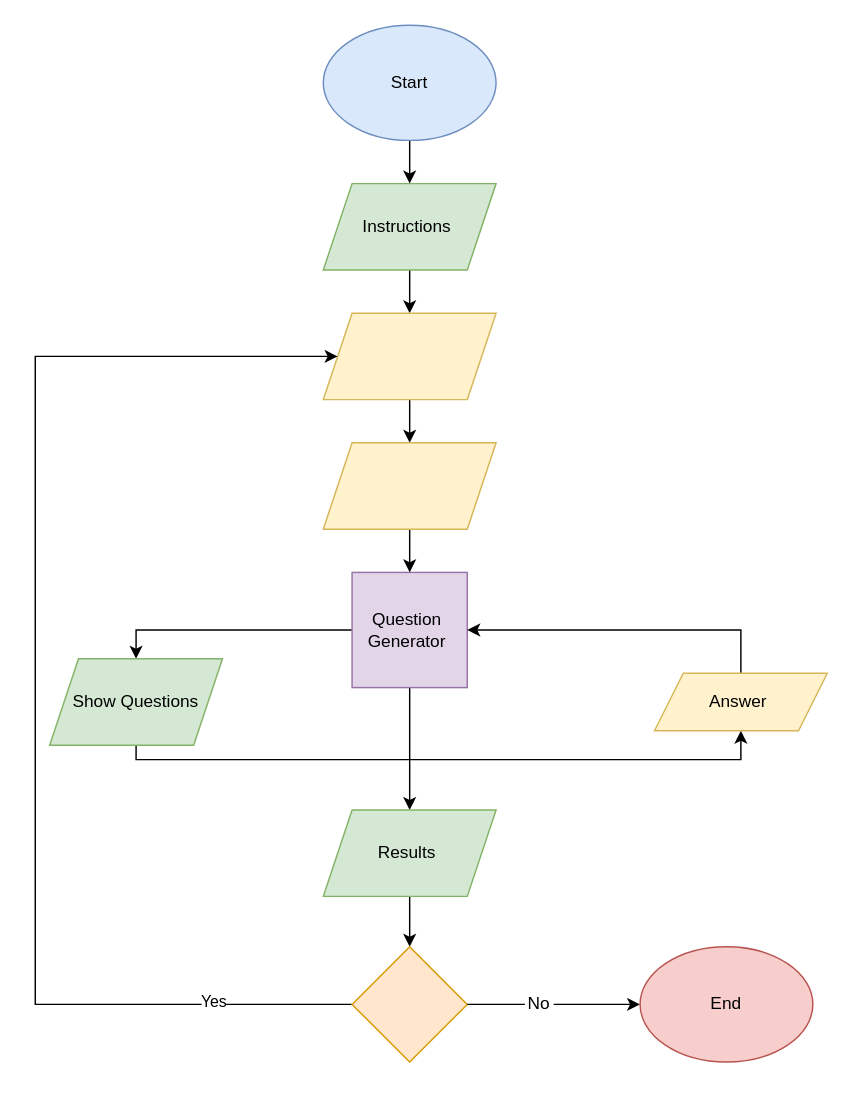
Image size: 852x1102. Some labels were removed from this diagram. Each missing label, with the centre of its shape:
Dic: point 409,1003
Number of Question: point 409,485
Question Description: point 409,356
